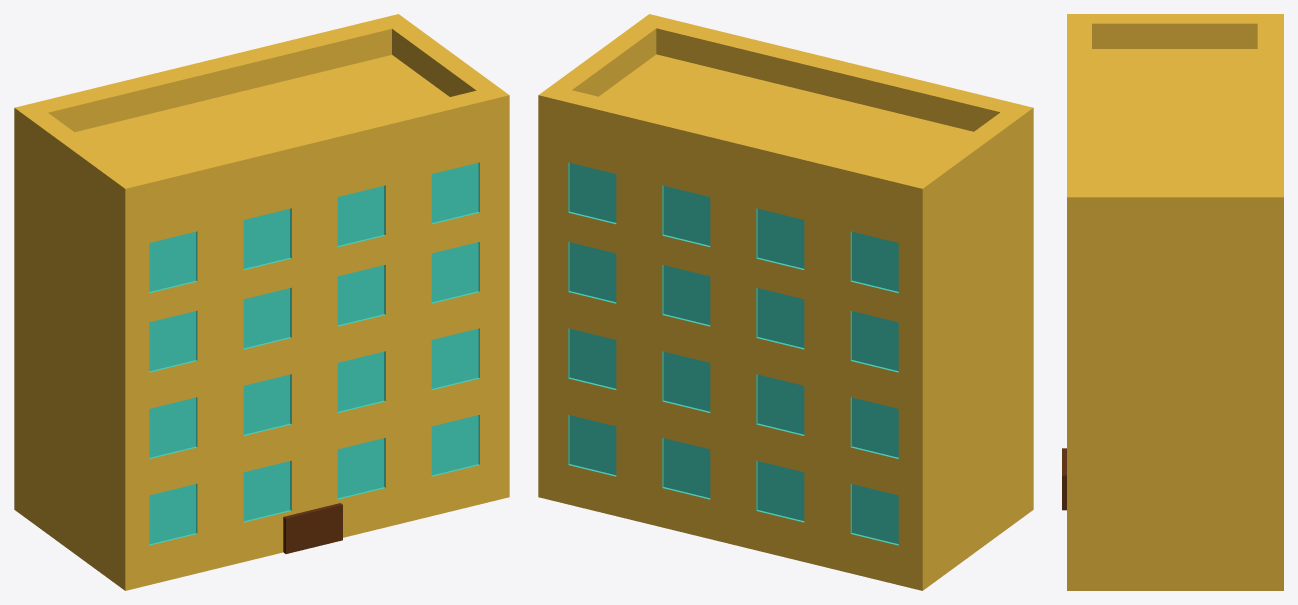
File: lowploybuilding8.FBX
3 renders of one model, left to right at view 1: azimuth 30°, elevation 25°; view 2: azimuth 150°, elevation 25°; view 3: azimuth 270°, elevation 25°, orthographic. The views are drawn at different scales.
Visible parts, largest first — view 1: Box001, Box034; view 2: Box001; view 3: Box001, Box034.
Boxes of the visible parts, x1=… form: Box001: x1=14, y1=14, x2=509, y2=590; Box034: x1=283, y1=503, x2=342, y2=553; Box001: x1=538, y1=14, x2=1033, y2=590; Box001: x1=1067, y1=14, x2=1283, y2=590; Box034: x1=1062, y1=448, x2=1066, y2=510.
Bounding box in the file's own units: 157 × 157 × 80.5.
